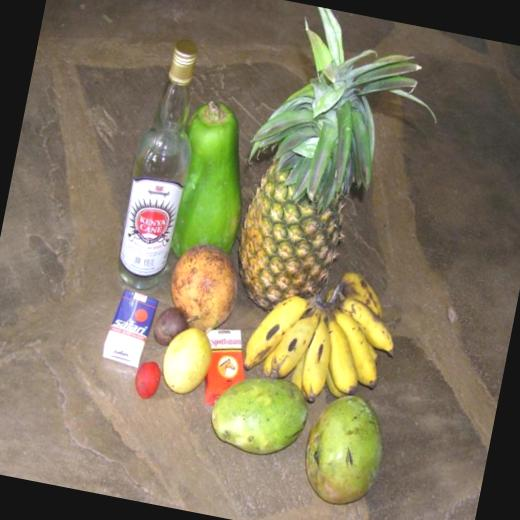Mango: (218, 0, 452, 334)
